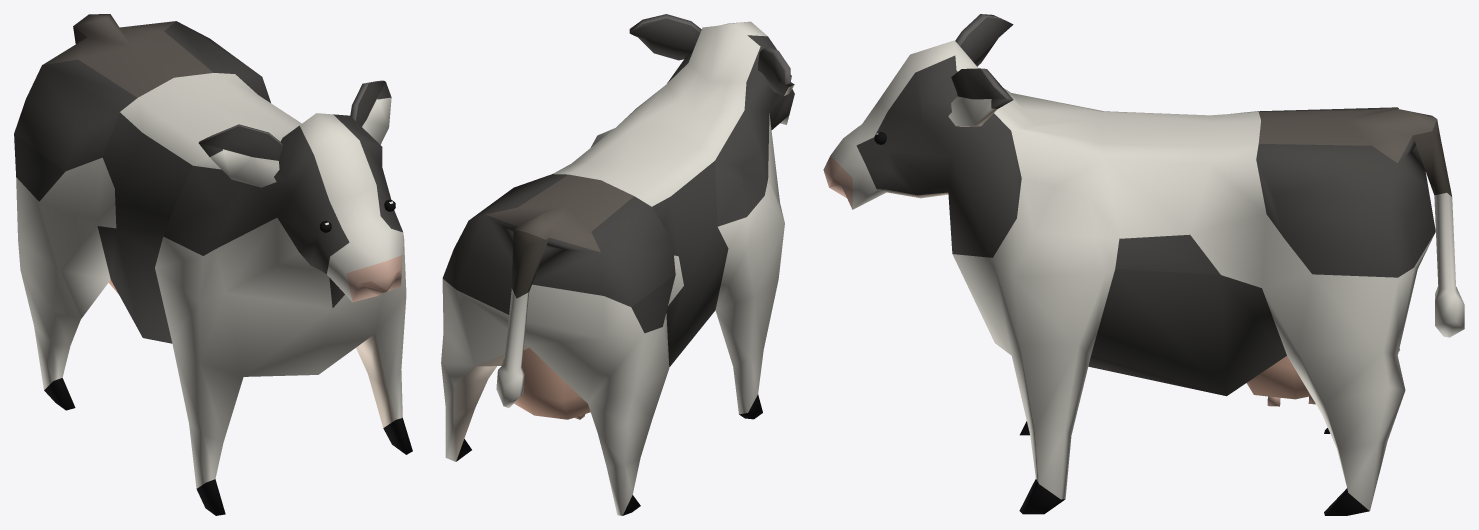
File: cow.FBX
The picture shows the model from 3 angles, left to right: view 1: azimuth 30°, elevation 25°; view 2: azimuth 150°, elevation 25°; view 3: azimuth 270°, elevation 25°; orthographic projection. The views are drawn at different scales.
Visible parts, largest first — view 1: Material.006; view 2: Material.006; view 3: Material.006.
Part boxes in pixels (left/top/right/bottom): Material.006: left=14, top=14, right=412, bottom=515; Material.006: left=441, top=14, right=794, bottom=515; Material.006: left=823, top=14, right=1464, bottom=515.
Bounding box in the file's own units: 95.6 × 164 × 220.
